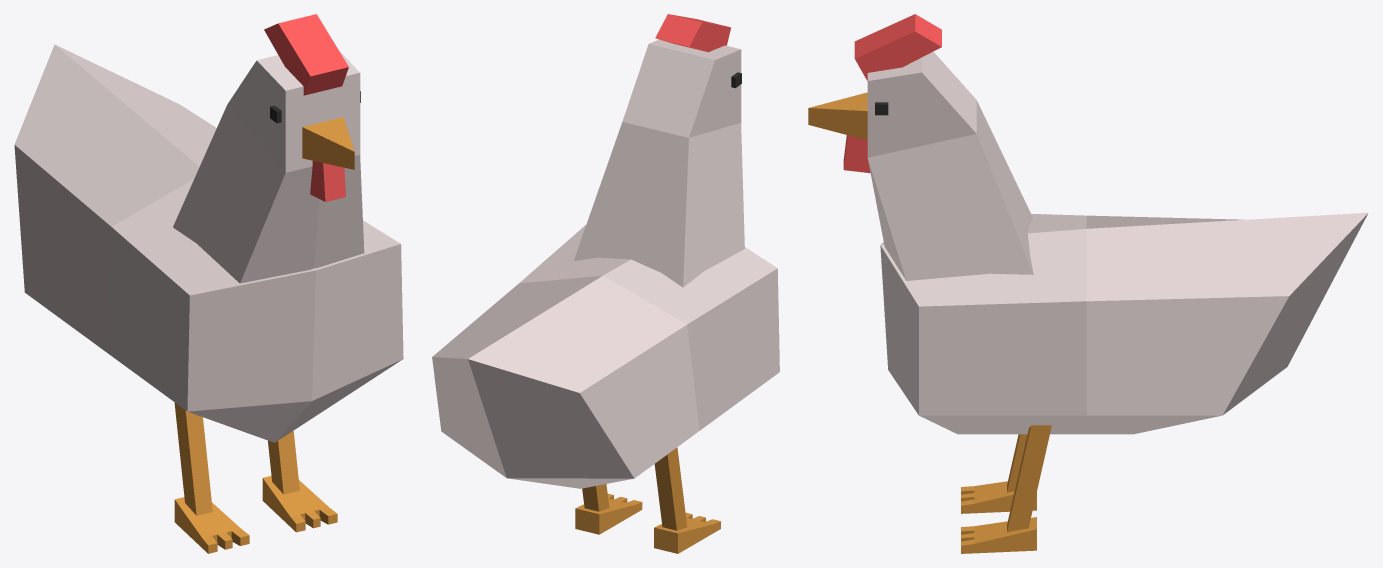
Rendered from chicken.fbx.
3 renders of one model, left to right at view 1: azimuth 30°, elevation 25°; view 2: azimuth 150°, elevation 25°; view 3: azimuth 270°, elevation 25°, orthographic. The views are drawn at different scales.
Parts seen in each view (by area): view 1: chicken; view 2: chicken; view 3: chicken.
Part boxes in pixels (x1,y1,x2,y2): chicken: [14, 14, 403, 553]; chicken: [432, 14, 779, 553]; chicken: [808, 14, 1368, 553].
Size of the model in its own units: 5.48 by 13.19 by 13.03.
